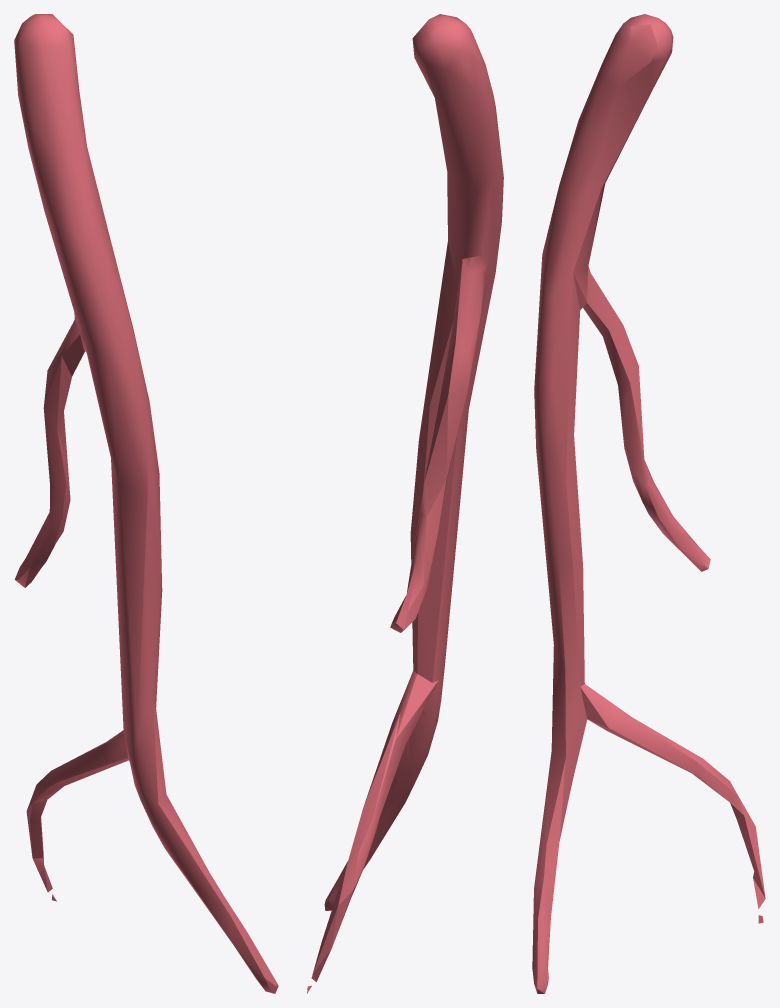
File: fma49489_fj5024.glb
3 views of the same model, side by side, from view 1: azimuth 30°, elevation 25°; view 2: azimuth 150°, elevation 25°; view 3: azimuth 270°, elevation 25° (orthographic). The views are drawn at different scales.
Visible parts, largest first — view 1: FMA49489_FJ5024; view 2: FMA49489_FJ5024; view 3: FMA49489_FJ5024.
Boxes of the visible parts, x1,y1,x2,y2 form: FMA49489_FJ5024: (14,14,278,993); FMA49489_FJ5024: (307,14,503,993); FMA49489_FJ5024: (532,14,765,993).
Size of the model in its own units: 0.00622 by 0.0279 by 0.00654.
